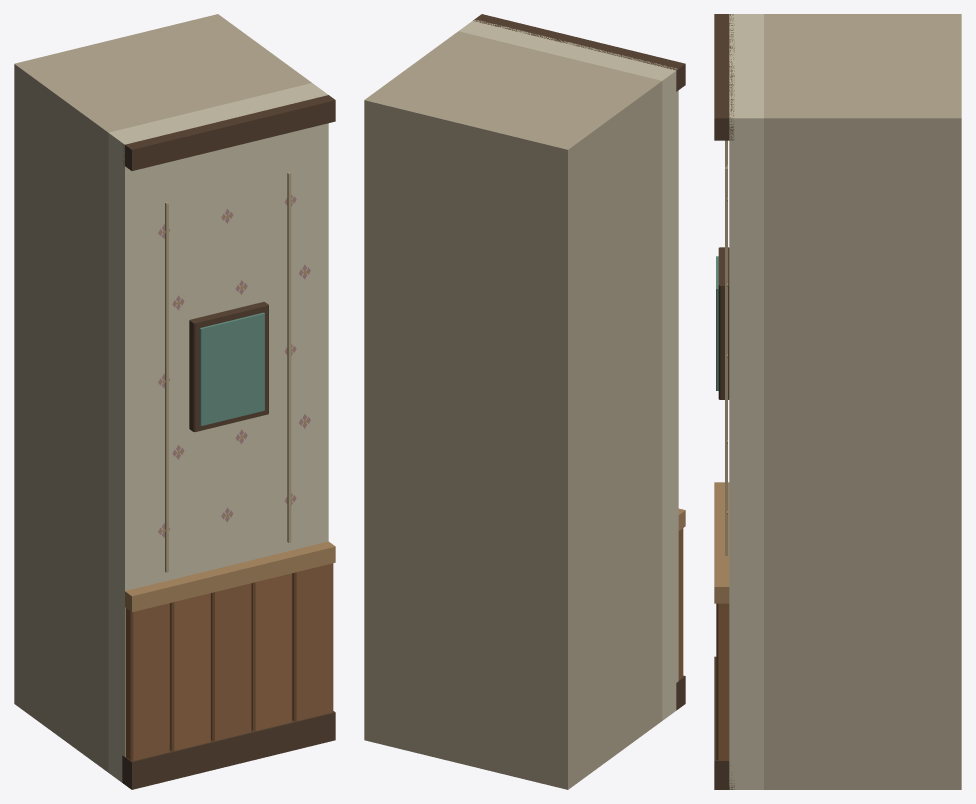
The model's file is wall_home_b.glb.
The picture shows the model from 3 angles, left to right: view 1: azimuth 30°, elevation 25°; view 2: azimuth 150°, elevation 25°; view 3: azimuth 270°, elevation 25°; orthographic projection. The views are drawn at different scales.
Visible parts, largest first — view 1: face_front, geometry; view 2: geometry, face_front; view 3: geometry, face_front.
Boxes of the visible parts, bbox=[...] form: face_front: bbox=[108, 83, 335, 789]; geometry: bbox=[14, 14, 311, 772]; geometry: bbox=[364, 31, 662, 789]; face_front: bbox=[458, 14, 685, 720]; geometry: bbox=[764, 14, 961, 789]; face_front: bbox=[714, 14, 763, 789].
Size of the model in its own units: 1 by 3 by 1.
